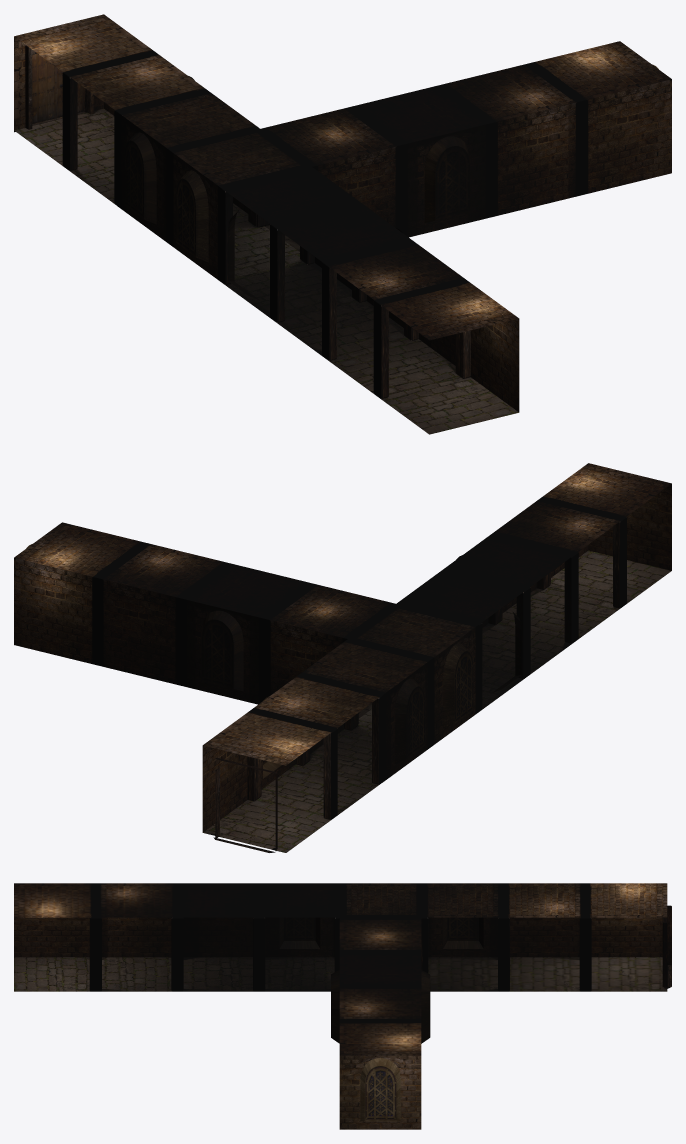
File: castle-bake(completo).fbx
3 views of the same model, one above another, from view 1: azimuth 30°, elevation 25°; view 2: azimuth 150°, elevation 25°; view 3: azimuth 270°, elevation 25° (orthographic). The views are drawn at different scales.
Parts seen in each view (by area): view 1: parede1.001, teto1, teto-baked 03, teto02, chão 02, parede-baked 03, chão-baked 03, vigas 02, paredes 02, vigas-baked 03; view 2: parede1.001, teto1, teto02, teto-baked 03, parede-baked 03, chão 02, chão-baked 03, paredes 02, vigas 02, vigas-baked 03; view 3: paredes 02, teto1, teto-baked 03, teto02, chão 02, parede-baked 03, chão-baked 03, parede1, vigas 02, vigas-baked 03, parede1.001.
Boxes of the visible parts, x1,y1,x2,y2 form: parede1.001: (313,79,671,237); teto1: (260,41,671,166); teto-baked 03: (14,14,311,188); teto02: (222,166,518,340); chão 02: (222,262,518,434); parede-baked 03: (14,36,248,282); chão-baked 03: (14,108,303,282); vigas 02: (221,189,470,398); paredes 02: (228,210,519,412); vigas-baked 03: (62,72,256,226); parede1.001: (14,557,347,704); teto1: (14,522,395,638); teto02: (396,463,671,624); teto-baked 03: (203,604,478,765); parede-baked 03: (202,625,478,852); chão 02: (479,550,671,711); chão-baked 03: (203,709,382,852); paredes 02: (409,484,671,692); vigas 02: (394,517,626,711); vigas-baked 03: (247,695,382,819); paredes 02: (14,917,334,957); teto1: (339,917,421,1055); teto-baked 03: (340,883,667,917); teto02: (14,883,340,917); chão 02: (14,957,334,991); parede-baked 03: (428,905,671,988); chão-baked 03: (428,957,667,991); parede1: (339,1055,421,1129); vigas 02: (89,917,339,991); vigas-baked 03: (421,917,591,991); parede1.001: (331,970,430,1043).
Size of the model in its own units: 1043 by 204 by 1611.
